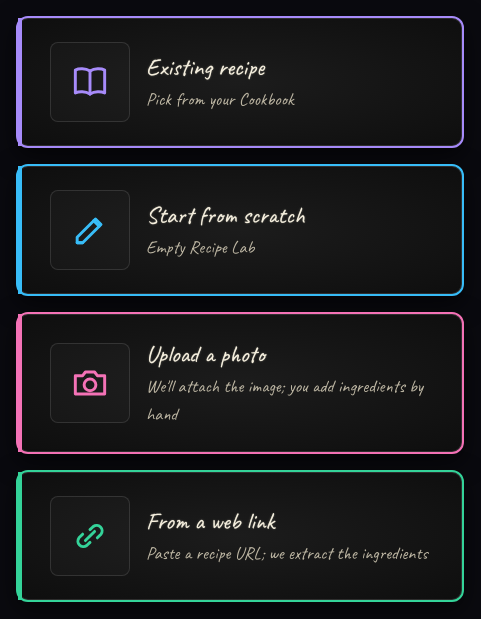
MakeRecipeStart — MAKE-WEBLINK-UI (4th picker option) › clicking the weblink card reveals the URL input
This screenshot has width=481, height=619.
Click the button with test id "make-card-weblink" at point(240, 536), box x1=16 y1=470 x2=464 y2=602
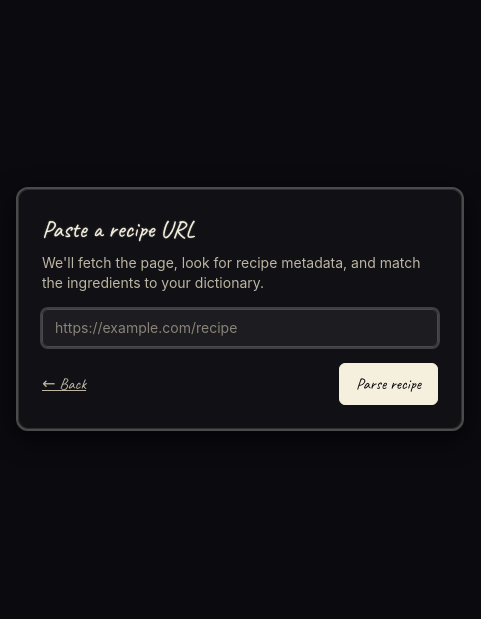
Expected: the element with test id "make-weblink-input" is shown, x1=16 y1=187 x2=464 y2=431
Expected: the field with test id "make-weblink-url-input" is shown, x1=42 y1=309 x2=438 y2=347
